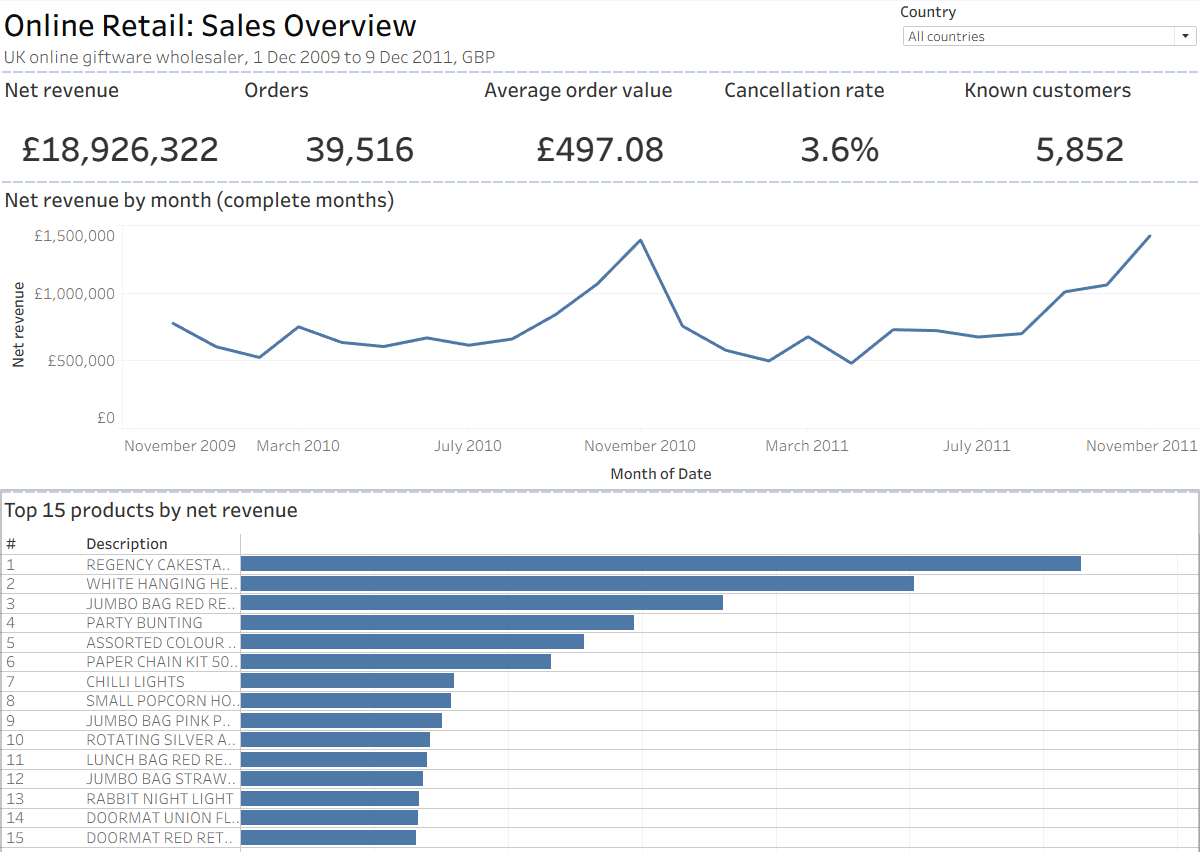

What the dashboard file says about the page in this screenshot:
{"tool":"tableau","page":{"name":"Sales Overview","canvas":[1200,950],"ordinal":0},"visuals":[{"type":"text","box":[0,0,900,60]},{"type":"parameter","param":"[Parameters].[Parameter 1]","box":[920,10,270,50]},{"type":"worksheet","title":"KPI Net Revenue","mark":"Text","box":[0,60,240,110]},{"type":"worksheet","title":"KPI Orders","mark":"Text","box":[240,60,240,110]},{"type":"worksheet","title":"KPI AOV","mark":"Text","box":[480,60,240,110]},{"type":"worksheet","title":"KPI Cancellation Rate","mark":"Text","box":[720,60,240,110]},{"type":"worksheet","title":"KPI Customers","mark":"Text","box":[960,60,240,110]},{"type":"worksheet","title":"Monthly Net Revenue","mark":"Line","rows":["net_revenue"],"cols":["month_start"],"box":[0,170,1200,330]},{"type":"worksheet","title":"Top Products","mark":"Bar","rows":["product_rank","description"],"cols":["net_revenue"],"box":[0,500,1200,400]},{"type":"text","box":[0,900,1200,50]}]}

Visuals, with their boxes on the page's 1200x950 design canvas (x1, y1, x2, y2). These are canvas units, not pixel positions in the 1200x852 screenshot, which may show the page scaled, cropped or inside an application window:
text: [0, 0, 900, 60]
parameter: [920, 10, 1190, 60]
"KPI Net Revenue" worksheet (Text marks): [0, 60, 240, 170]
"KPI Orders" worksheet (Text marks): [240, 60, 480, 170]
"KPI AOV" worksheet (Text marks): [480, 60, 720, 170]
"KPI Cancellation Rate" worksheet (Text marks): [720, 60, 960, 170]
"KPI Customers" worksheet (Text marks): [960, 60, 1200, 170]
"Monthly Net Revenue" worksheet (Line marks): [0, 170, 1200, 500]
"Top Products" worksheet (Bar marks): [0, 500, 1200, 900]
text: [0, 900, 1200, 950]
